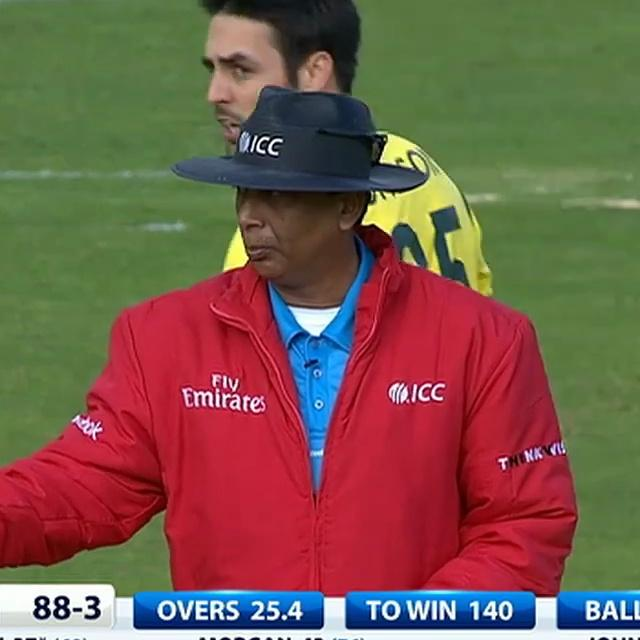umpire: (0, 0, 618, 588)
